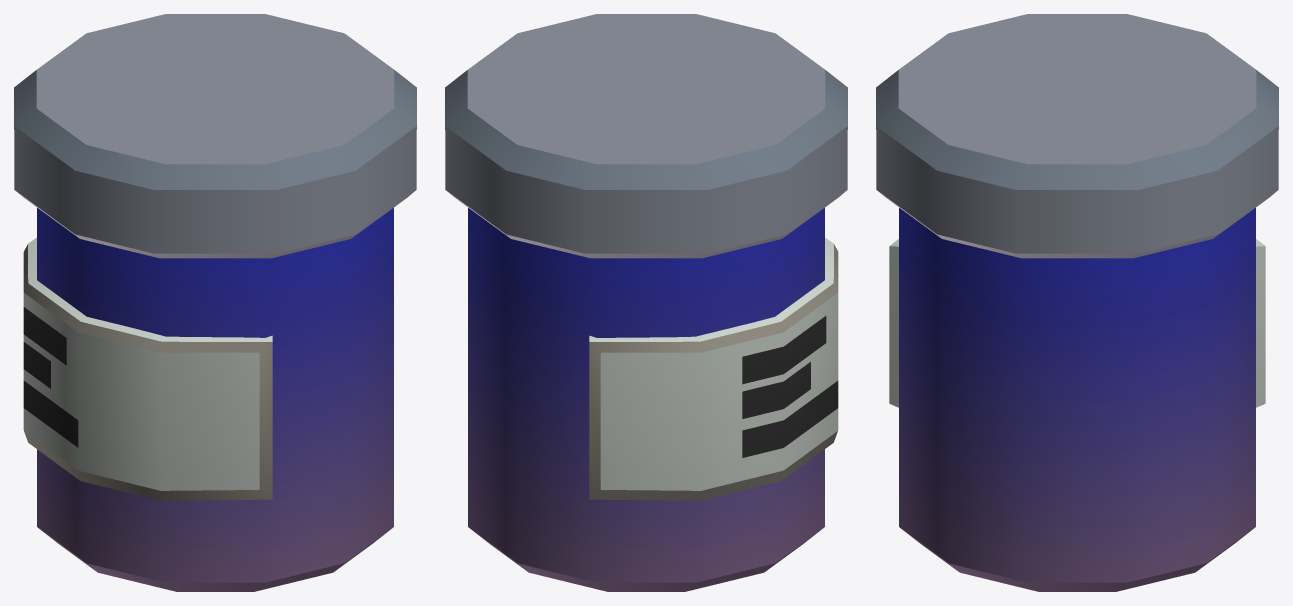
The model's file is Jar_1_D.glb.
3 views of the same model, side by side, from view 1: azimuth 30°, elevation 25°; view 2: azimuth 150°, elevation 25°; view 3: azimuth 270°, elevation 25° (orthographic).
Parts seen in each view (by area): view 1: Jar_1_D; view 2: Jar_1_D; view 3: Jar_1_D.
Boxes of the visible parts, x1,y1,x2,y2 form: Jar_1_D: [14, 14, 416, 591]; Jar_1_D: [445, 14, 847, 591]; Jar_1_D: [876, 14, 1278, 591].
Size of the model in its own units: 0.1799 by 0.2194 by 0.1837.
Materials: 2 (2 with a texture image).
